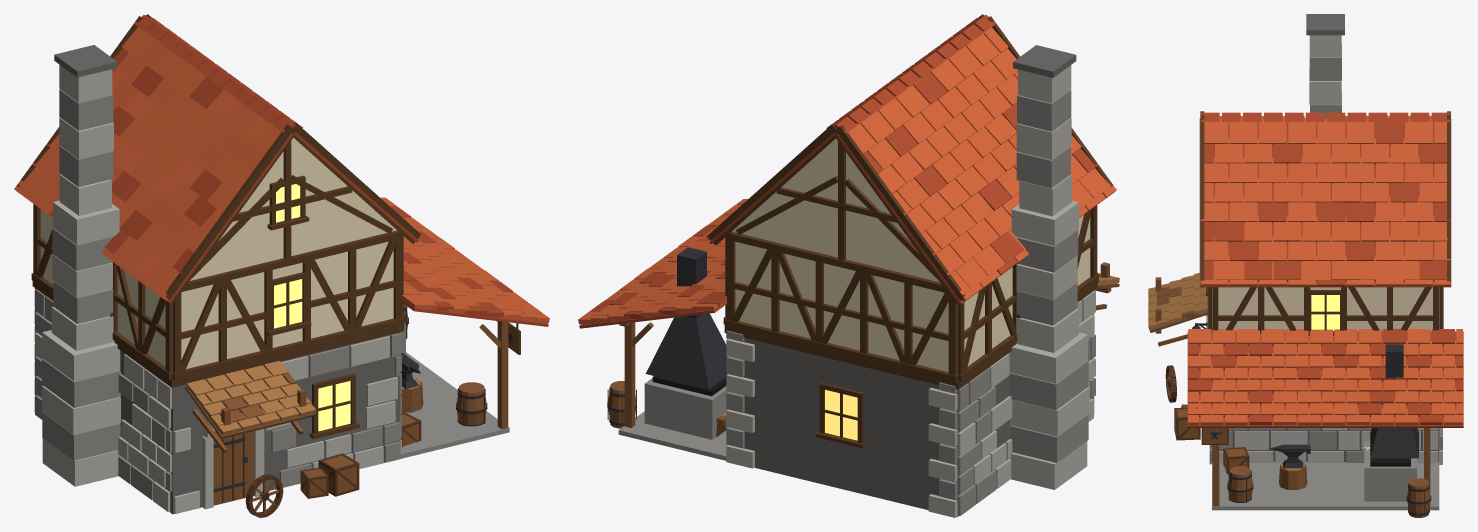
The model's file is Pack_Workshop.fbx.
The picture shows the model from 3 angles, left to right: view 1: azimuth 30°, elevation 25°; view 2: azimuth 150°, elevation 25°; view 3: azimuth 270°, elevation 25°; orthographic projection. The views are drawn at different scales.
Visible parts, largest first — view 1: Pack_Workshop_LOD0; view 2: Pack_Workshop_LOD0; view 3: Pack_Workshop_LOD0.
Part boxes in pixels (x1,y1,x2,y2): Pack_Workshop_LOD0: (14, 14, 549, 517); Pack_Workshop_LOD0: (578, 14, 1119, 517); Pack_Workshop_LOD0: (1148, 14, 1463, 517).
Size of what is drawn, in the model's own units: 9.74 by 9.34 by 7.77.
